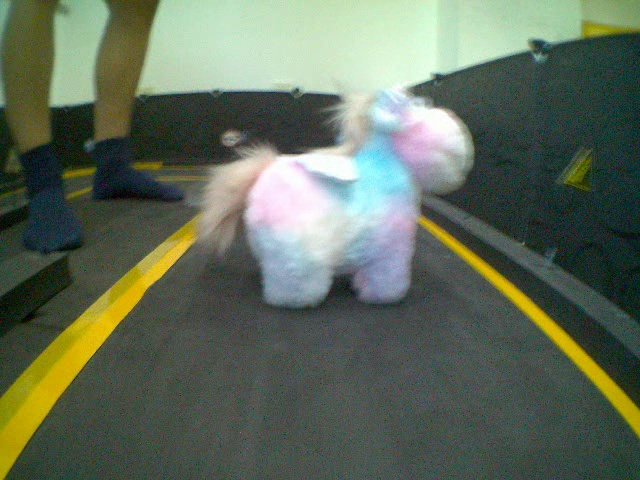unicorn: (198, 80, 477, 309)
